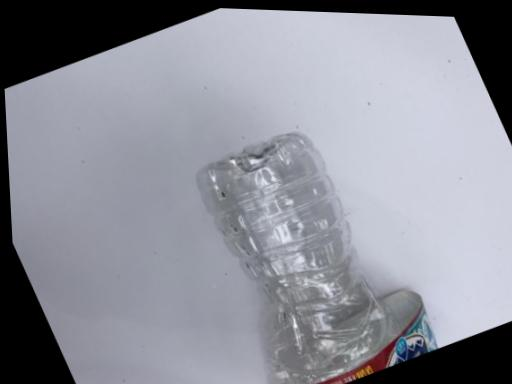plastic: (196, 132, 435, 383)
